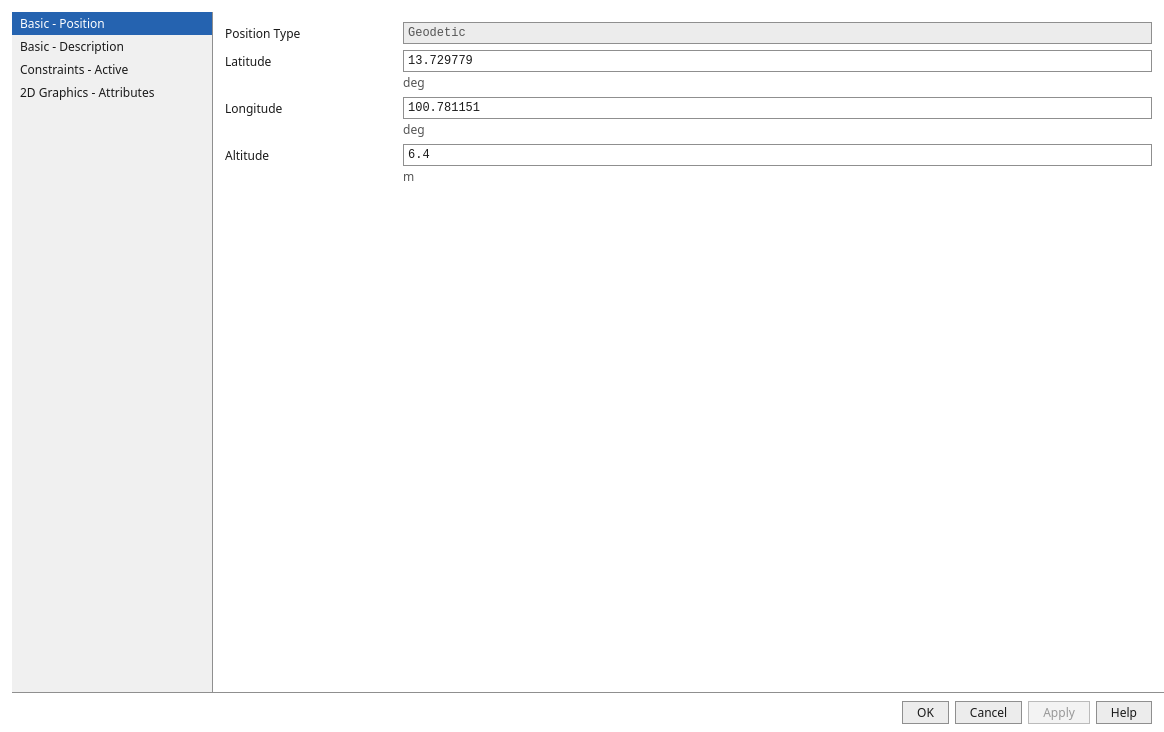
Test: a server 422 › a field that no page shows is reported under the pages, and the window stays open
Click the tab "Constraints - Active" at (112, 70), box x1=12 y1=58 x2=212 y2=81
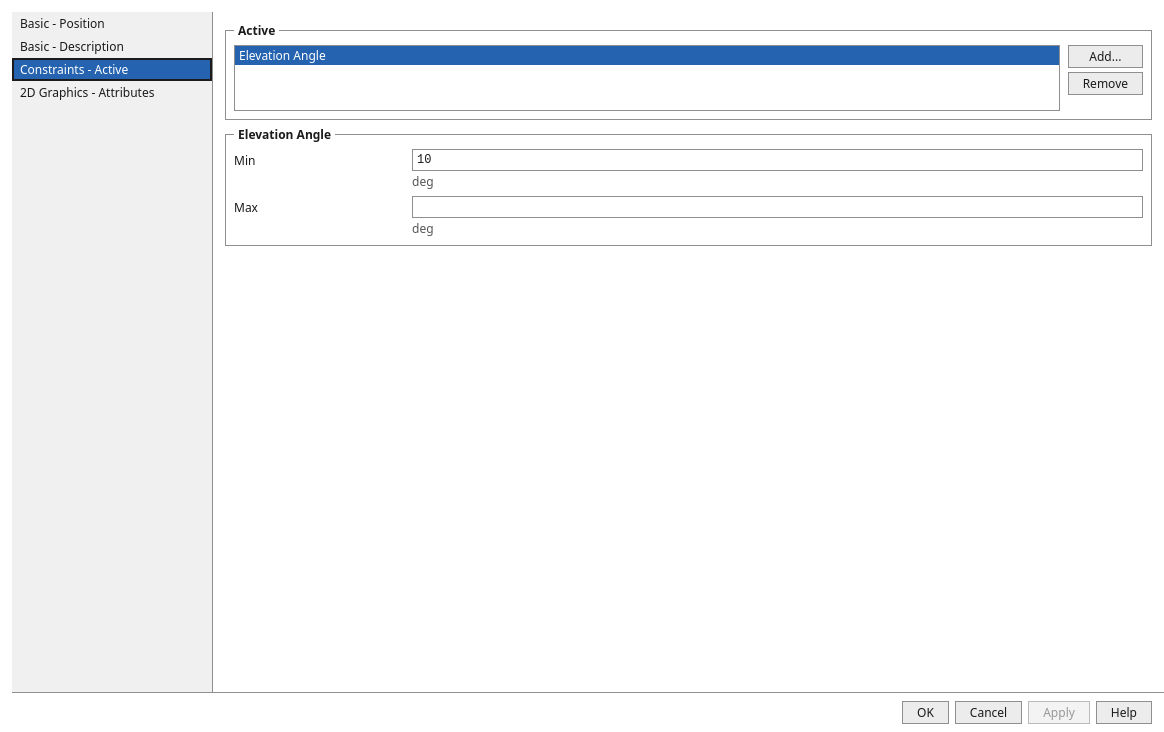
Replace the text in the field labelled "Min" with "15" at (778, 160), box x1=412 y1=149 x2=1143 y2=171
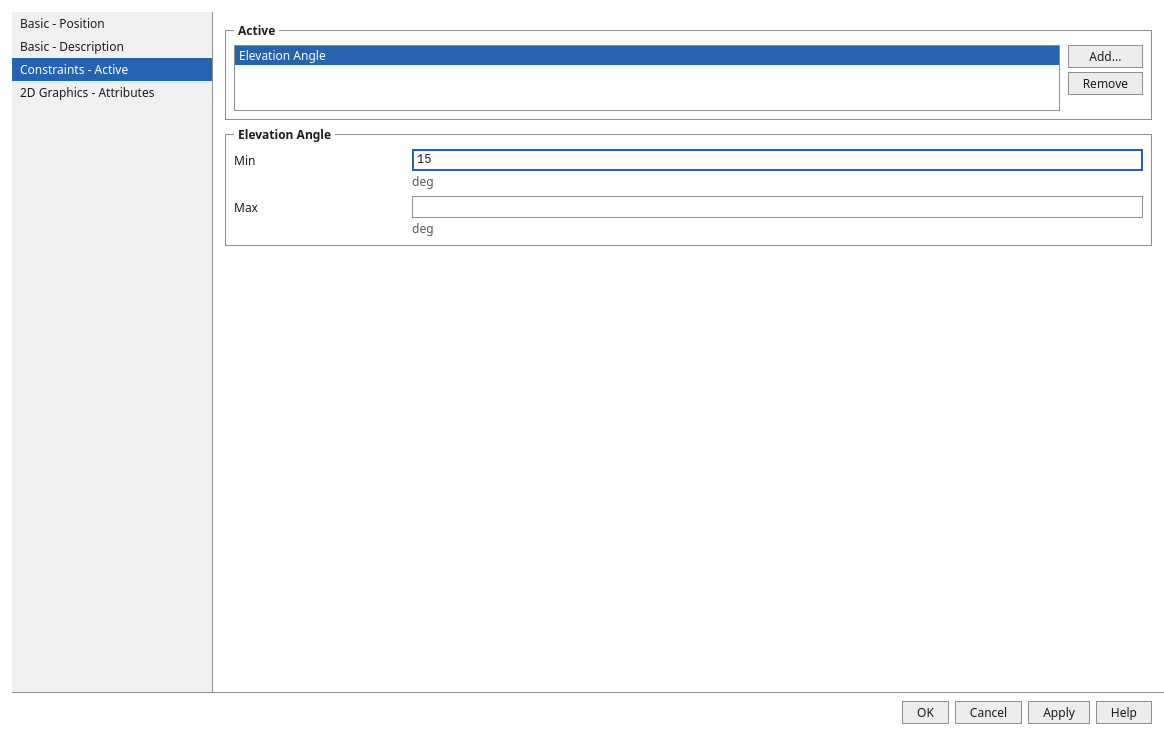
Click the button "OK" at (925, 712), box x1=902 y1=701 x2=949 y2=724
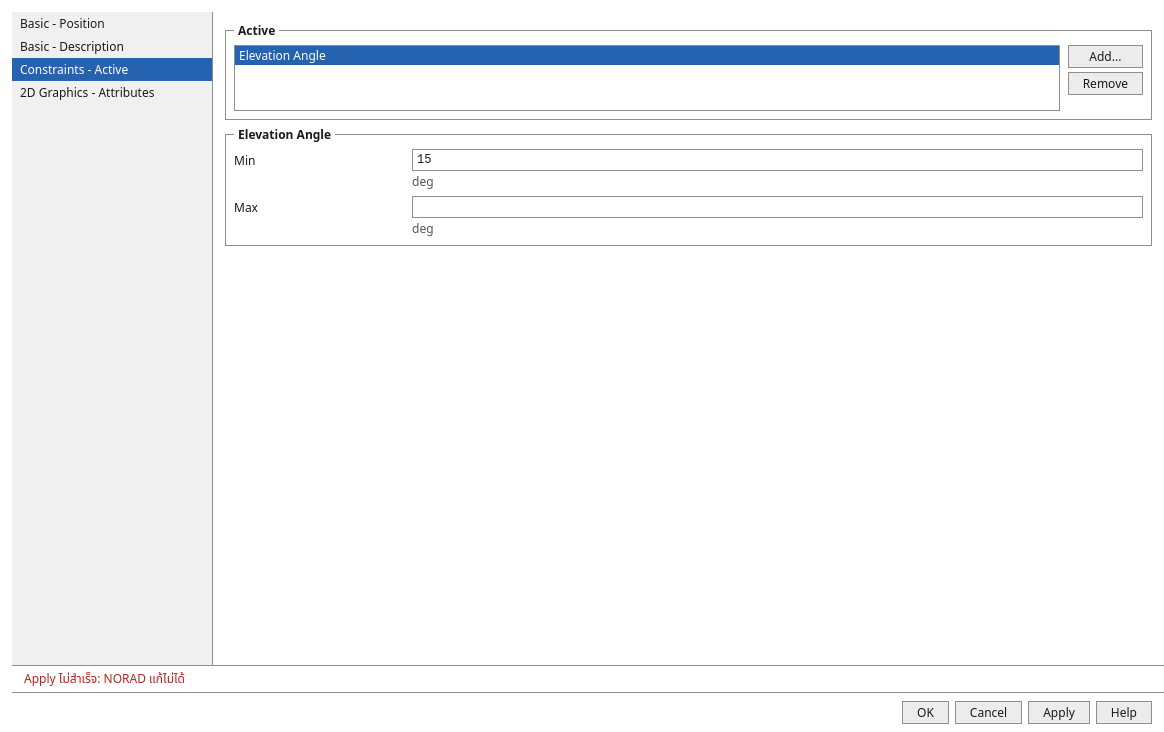
expect the message shows "NORAD แก้ไม่ได้": met, box x1=24 y1=670 x2=185 y2=687
